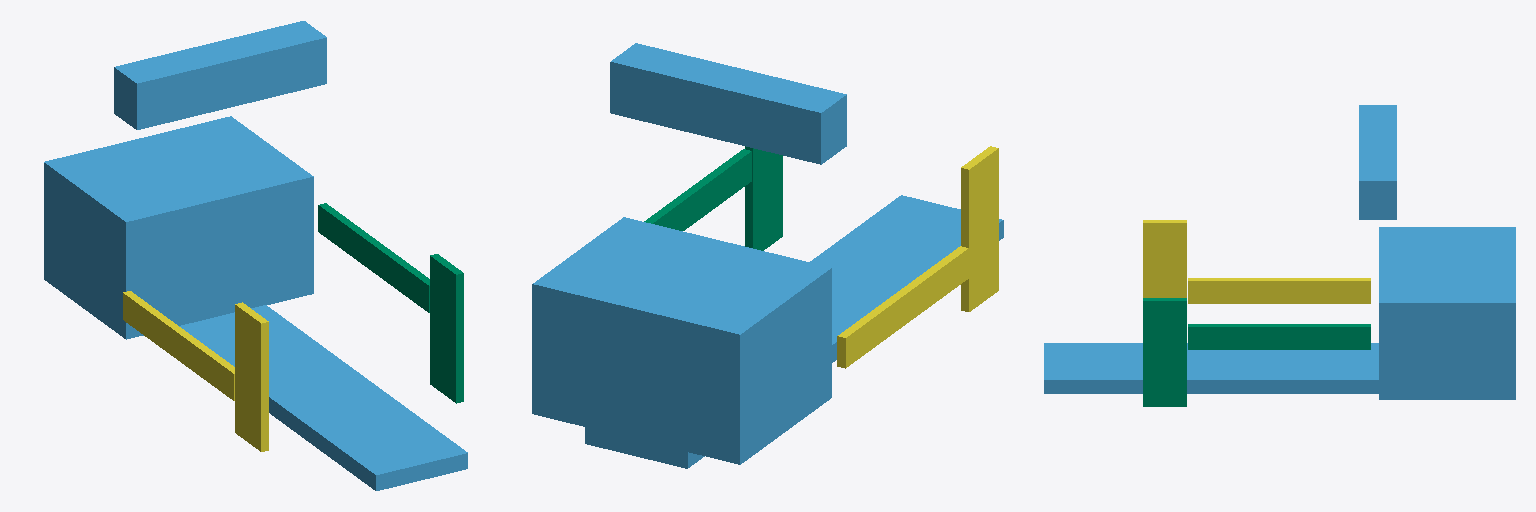
The robot description file, URDF, robot "egu50":
<?xml version="1.0"?>
<robot name="egu50">
  <link name="gripper_base" />
  <link name="gripper_body">
    <inertial>
      <origin xyz="0.0026128 -0.1053171 -0.0104483" rpy="0.0 -0.0 0.0" />
      <mass value="1.49" />
      <inertia ixx="0.0082277" ixy="0.0008049" ixz="2.19e-05" iyy="0.0023777" iyz="-9.7e-05" izz="0.0094396" />
    </inertial>
    <visual name="body">
      <origin xyz="0.0 -0.0465 0.0" rpy="0.0 -0.0 0.0" />
      <geometry>
        <mesh filename="meshes/body.obj" />
      </geometry>
    </visual>
    <visual name="plate">
      <origin xyz="0.0 -0.1605 -0.041" rpy="0.0 -0.0 0.0" />
      <geometry>
        <mesh filename="meshes/plate.obj" />
      </geometry>
    </visual>
    <visual name="d455">
      <origin xyz="0.0 -0.0937 0.11383" rpy="0.0 -0.0 0.0" />
      <geometry>
        <mesh filename="meshes/d455.obj" />
      </geometry>
    </visual>
    <collision name="body">
      <origin xyz="0.0 -0.0465 0.0" rpy="0.0 -0.0 0.0" />
      <geometry>
        <mesh filename="meshes/body.obj" />
      </geometry>
    </collision>
    <collision name="plate">
      <origin xyz="0.0 -0.1605 -0.041" rpy="0.0 -0.0 0.0" />
      <geometry>
        <mesh filename="meshes/plate.obj" />
      </geometry>
    </collision>
    <collision name="d455">
      <origin xyz="0.0 -0.0937 0.11383" rpy="0.0 -0.0 0.0" />
      <geometry>
        <mesh filename="meshes/d455.obj" />
      </geometry>
    </collision>
  </link>
  <link name="right_gripper">
    <visual name="right_gripper_0">
      <geometry>
        <mesh filename="meshes/right_gripper_0.obj" />
      </geometry>
    </visual>
    <visual name="right_gripper_1">
      <geometry>
        <mesh filename="meshes/right_gripper_1.obj" />
      </geometry>
    </visual>
    <collision name="right_gripper_0">
      <geometry>
        <mesh filename="meshes/right_gripper_0.obj" />
      </geometry>
    </collision>
    <collision name="right_gripper_1">
      <geometry>
        <mesh filename="meshes/right_gripper_1.obj" />
      </geometry>
    </collision>
  </link>
  <link name="left_gripper">
    <visual name="left_gripper_0">
      <geometry>
        <mesh filename="meshes/left_gripper_0.obj" />
      </geometry>
    </visual>
    <visual name="left_gripper_1">
      <geometry>
        <mesh filename="meshes/left_gripper_1.obj" />
      </geometry>
    </visual>
    <collision name="left_gripper_0">
      <geometry>
        <mesh filename="meshes/left_gripper_0.obj" />
      </geometry>
    </collision>
    <collision name="left_gripper_1">
      <geometry>
        <mesh filename="meshes/left_gripper_1.obj" />
      </geometry>
    </collision>
  </link>
  <joint name="gripper_fixed" type="fixed">
    <parent link="gripper_base" />
    <child link="gripper_body" />
  </joint>
  <joint name="right_gripper_joint" type="prismatic">
    <origin xyz="0.02614 -0.0880107 0.02911" rpy="0.0 -0.0 -1.5707964" />
    <parent link="gripper_body" />
    <child link="right_gripper" />
    <axis xyz="0.0 1.0 0.0" />
    <limit lower="0.00985" upper="0.06085" effort="100.0" velocity="0.1" />
  </joint>
  <joint name="left_gripper_joint" type="prismatic">
    <origin xyz="-0.0261453 -0.0880107 -0.029113" rpy="-3.1415926071795868 -0.0 -1.5707964" />
    <parent link="gripper_body" />
    <child link="left_gripper" />
    <axis xyz="0.0 1.0 0.0" />
    <limit lower="0.00985" upper="0.06085" effort="100.0" velocity="0.1" />
  </joint>
</robot>

--- What the picture shows (computed from the rendered views, not written in the file) ---
Views: 3 orthographic renders of the robot side by side, from view 1: azimuth 30°, elevation 25°; view 2: azimuth 150°, elevation 25°; view 3: azimuth 270°, elevation 25°.
Robot: egu50 — 4 links, 3 joints (2 prismatic, 1 fixed); root link gripper_base; default pose: all joints at 0 but 2 set to mid-range because 0 is outside their limits (right_gripper_joint = 0.0353, left_gripper_joint = 0.0353).
Links seen in each view (by area): view 1: gripper_body, left_gripper, right_gripper; view 2: gripper_body, left_gripper, right_gripper; view 3: gripper_body, right_gripper, left_gripper.
Boxes of the visible links, x1,y1,x2,y2 form: gripper_body: [44, 21, 467, 490]; left_gripper: [123, 291, 268, 451]; right_gripper: [318, 203, 463, 403]; gripper_body: [532, 43, 1003, 468]; left_gripper: [837, 146, 998, 368]; right_gripper: [644, 146, 782, 250]; gripper_body: [1044, 105, 1515, 399]; right_gripper: [1143, 298, 1370, 406]; left_gripper: [1143, 220, 1370, 303].
Bounding box of the posed robot: 0.1322 × 0.321 × 0.1743 m (x, y, z).
7 mesh visuals loaded from 7 distinct referenced files (7 OBJ).
